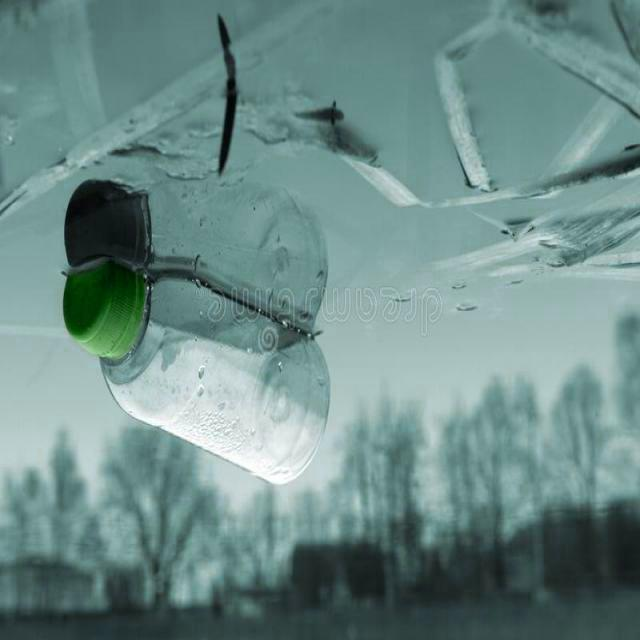Plastic: (60, 256, 331, 485)
